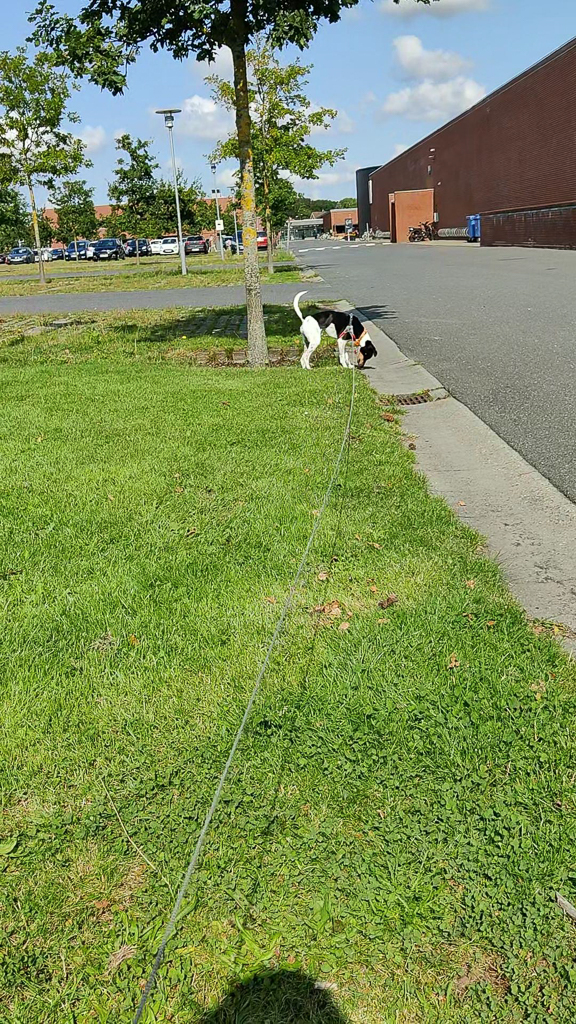Dog: (286, 285, 386, 377)
